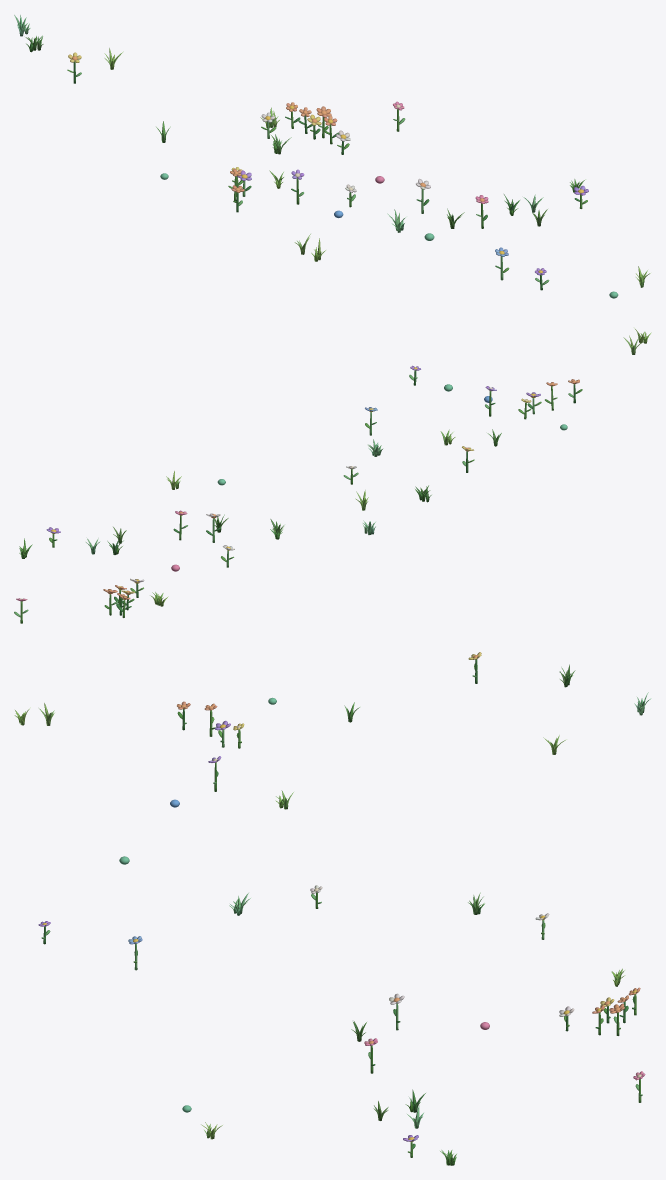
The model's file is W3_FloraRing_11_9.fbx.
3 renders of one model, top to bottom at view 1: azimuth 30°, elevation 25°; view 2: azimuth 150°, elevation 25°; view 3: azimuth 270°, elevation 25°, orthographic. The views are drawn at different scales.
Visible parts, largest first — view 1: W3_FloraRing_11_9; view 2: W3_FloraRing_11_9; view 3: W3_FloraRing_11_9.
Boxes of the visible parts, left/top/right/bottom form: W3_FloraRing_11_9: left=14, top=15, right=650, bottom=298; W3_FloraRing_11_9: left=14, top=328, right=651, bottom=623; W3_FloraRing_11_9: left=14, top=652, right=651, bottom=1165.
Bounding box in the file's own units: 3.78 × 1.77 × 3.92.
